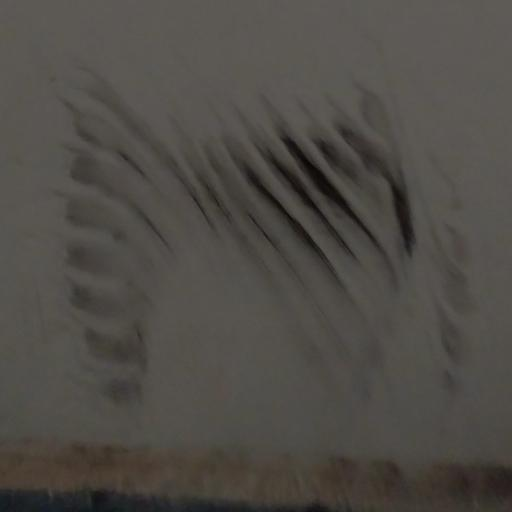stain: (44, 51, 491, 460)
